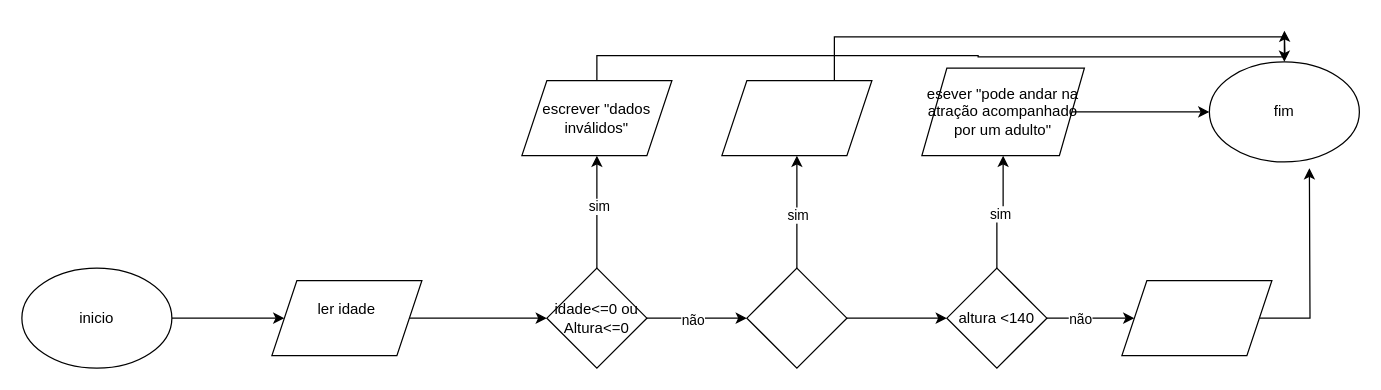
Some shapes in this 1381 by 390 pixel diagram are drawn without their labels. The centre of each missing label's shape, as x and y in pixels:
escrever "não pode andar na atração": [796,117]
escrever "pode andar sozinho": [1196,317]
idade <12: [796,317]
